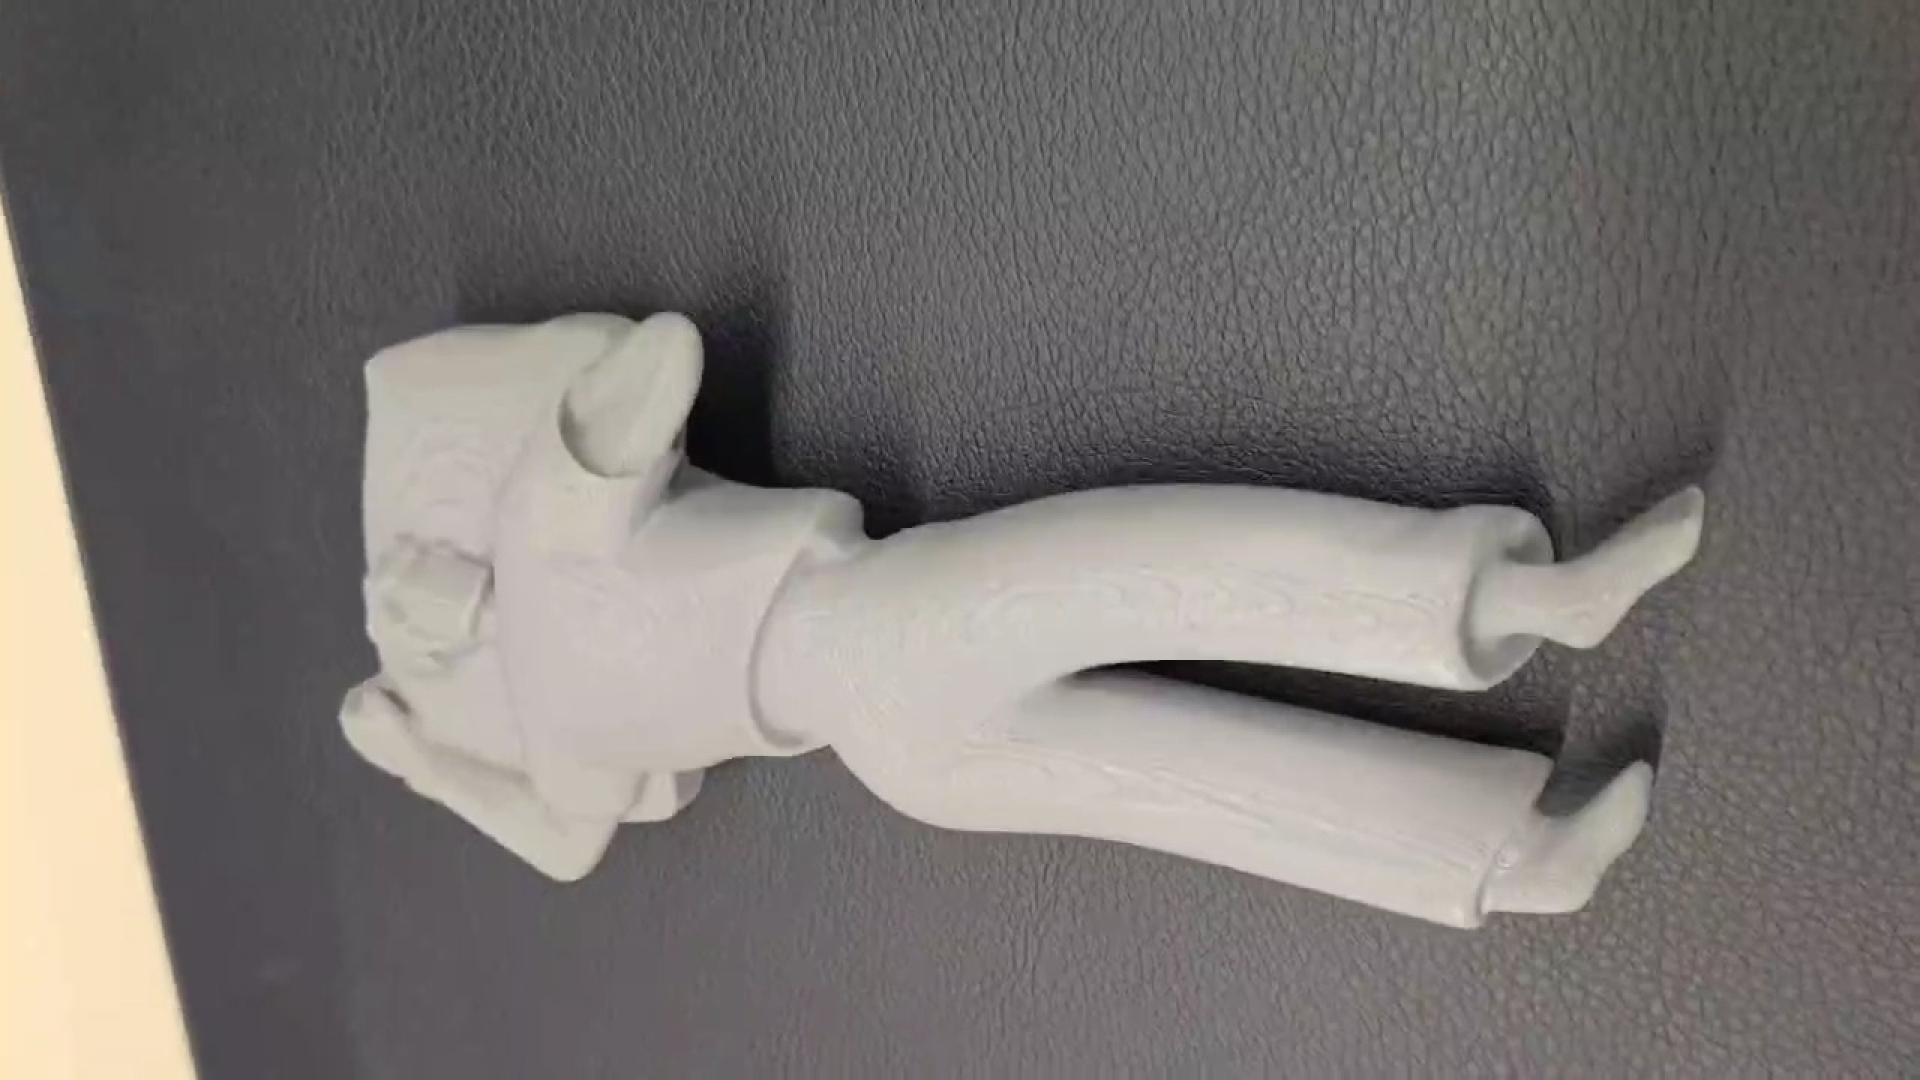Bad-style: (345, 310, 1704, 920)
